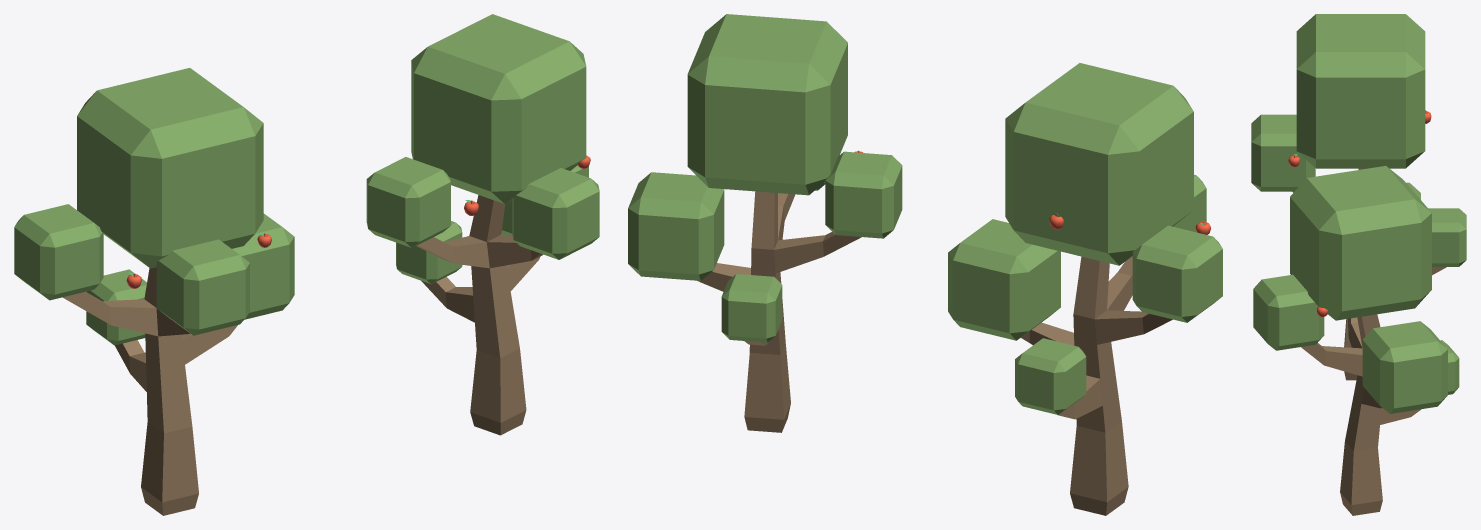
Rendered from veg_orchard_apple.glb.
The picture shows the model from 3 angles, left to right: view 1: azimuth 30°, elevation 25°; view 2: azimuth 150°, elevation 25°; view 3: azimuth 270°, elevation 25°; orthographic projection. The views are drawn at different scales.
Parts seen in each view (by area): view 1: tree_detailed_0, tree_detailed_1; view 2: tree_detailed_0, tree_detailed_1; view 3: tree_detailed_1, tree_detailed_0.
Part boxes in pixels (x1,y1,x2,y2): tree_detailed_0: (14, 68, 294, 515); tree_detailed_1: (366, 14, 599, 435); tree_detailed_0: (948, 63, 1222, 515); tree_detailed_1: (628, 14, 902, 432); tree_detailed_1: (1253, 166, 1459, 515); tree_detailed_0: (1251, 14, 1466, 380).
Bounding box in the file's own units: 3.09 × 2.13 × 1.22.
4 materials, 1 textured.
